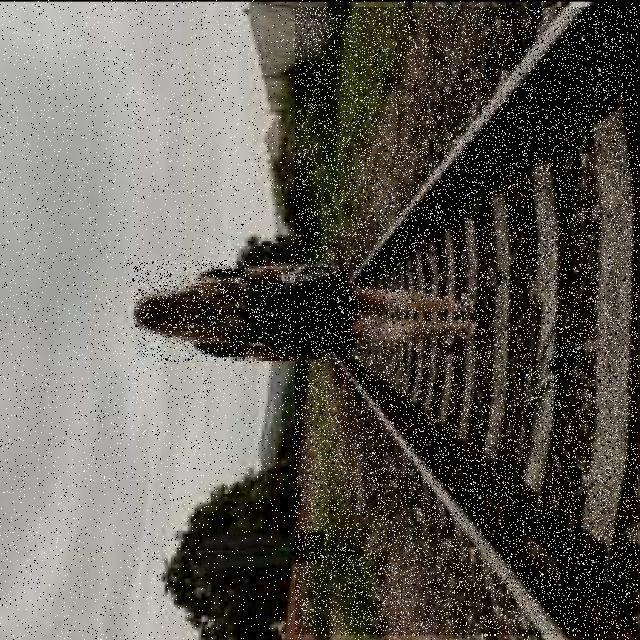rail: (296, 8, 639, 636)
